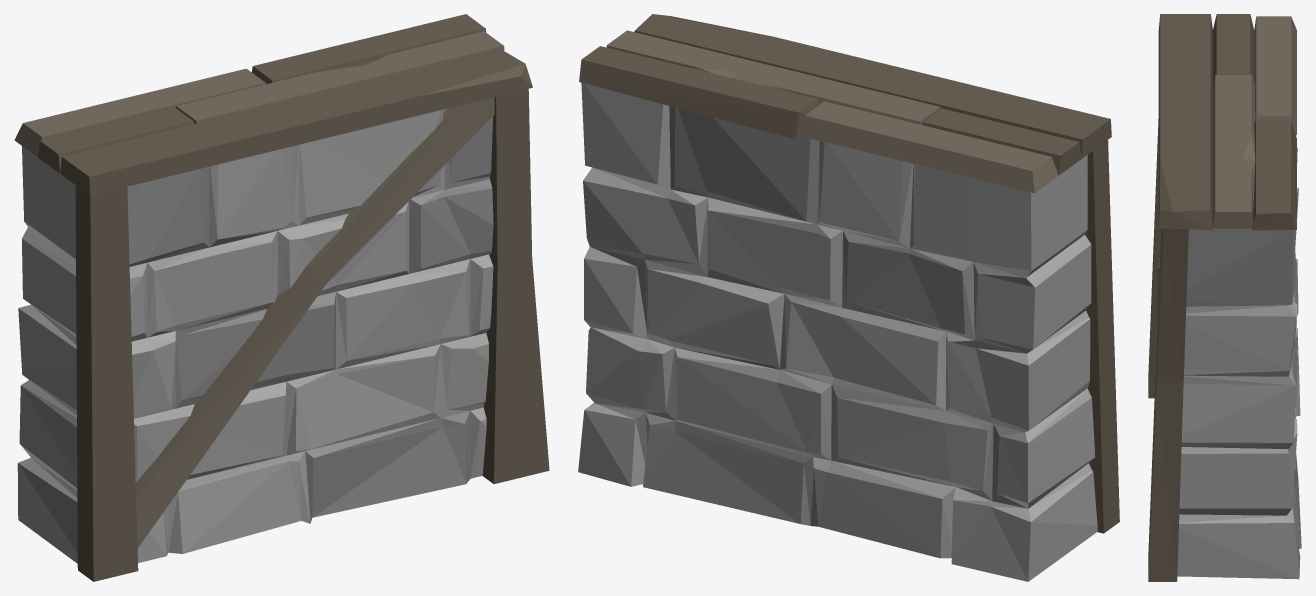
Rendered from _WALL_1_PART2_01.fbx.
3 renders of one model, left to right at view 1: azimuth 30°, elevation 25°; view 2: azimuth 150°, elevation 25°; view 3: azimuth 270°, elevation 25°, orthographic. The views are drawn at different scales.
Parts seen in each view (by area): view 1: WALL_1_PART2_01; view 2: WALL_1_PART2_01; view 3: WALL_1_PART2_01.
Boxes of the visible parts, x1,y1,x2,y2 form: WALL_1_PART2_01: [14, 14, 549, 581]; WALL_1_PART2_01: [578, 14, 1119, 581]; WALL_1_PART2_01: [1148, 14, 1301, 581].
Bounding box in the file's own units: 426 × 361 × 136.
